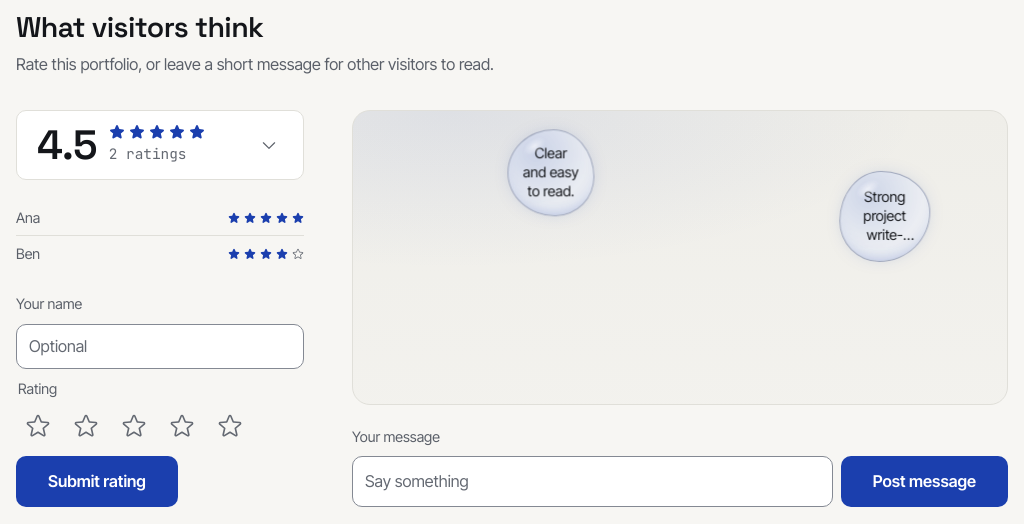
Test: Reviews › submits a rating, and writes no message with it
Expected: the text "4.5" is shown, [37,125,97,166]
In the field labelled "Your name": [160, 346] box [16,324,304,369], type "Recruiter"
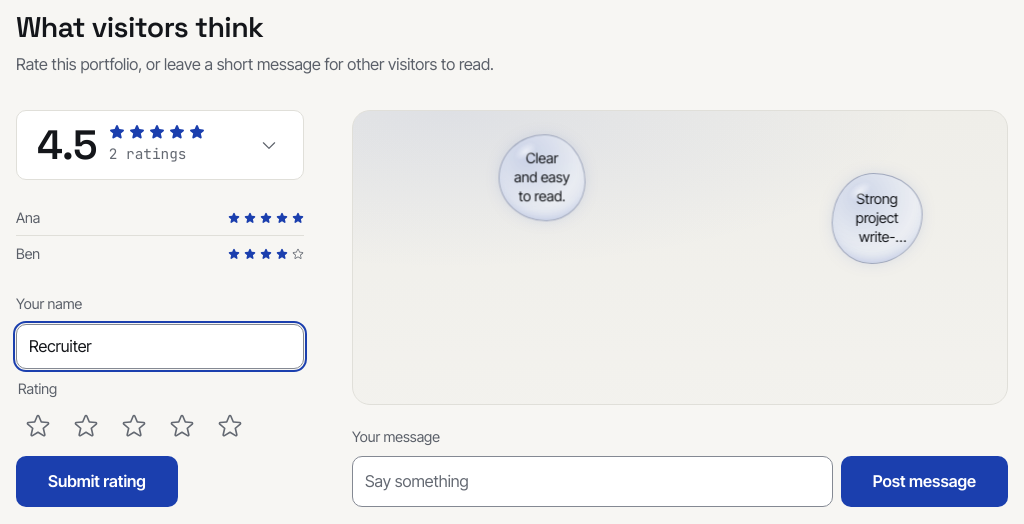
Click the radio button named "5 stars": [230, 426] box [208,404,252,448]
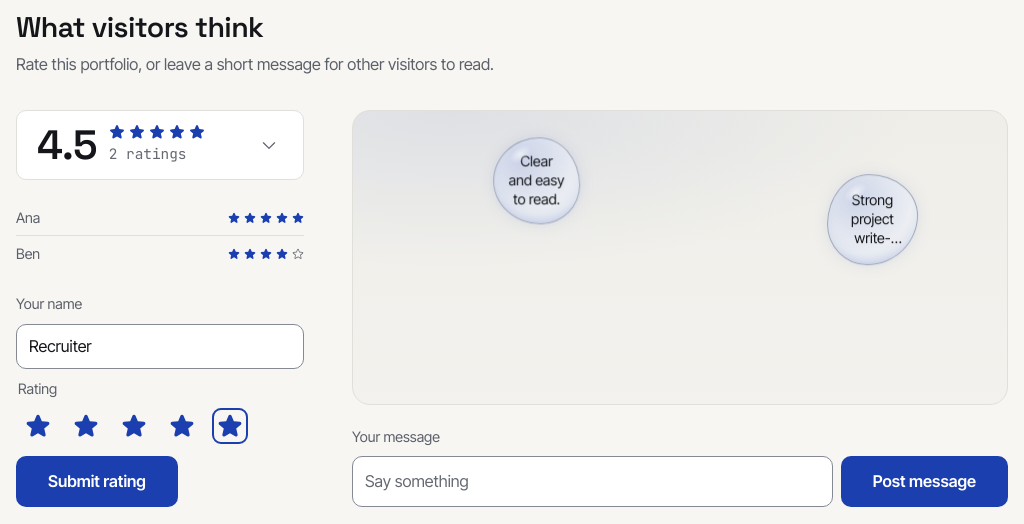
Click the button "Submit rating": [97, 482] box [16,456,178,507]
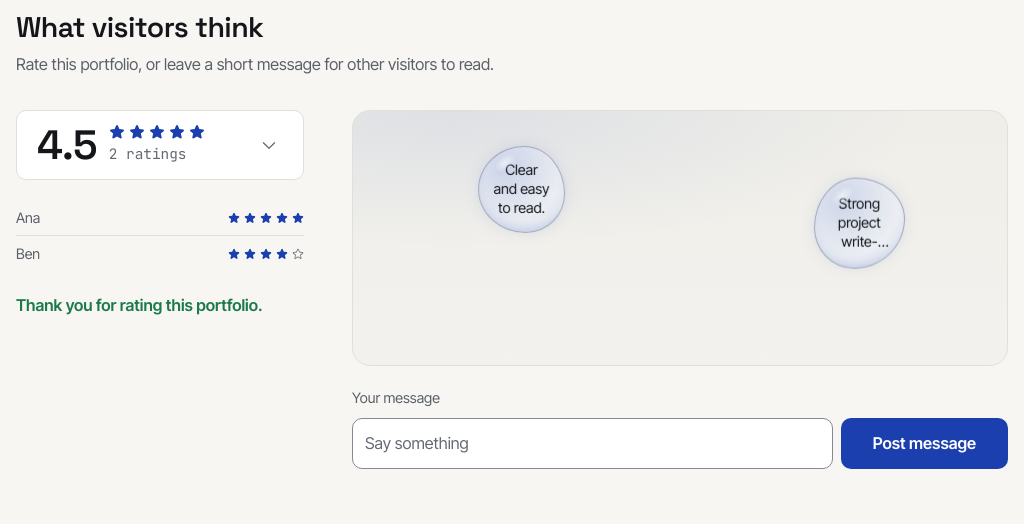
Now the text "Thank you for rating this portfolio." is shown, box [16,292,304,319]
